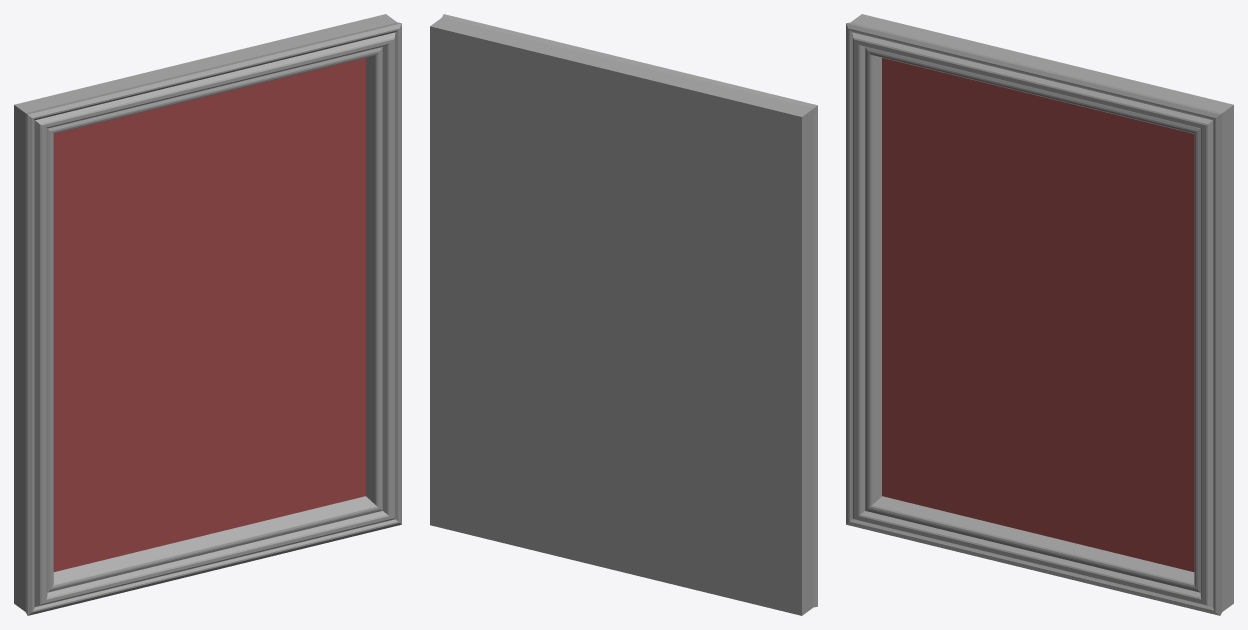
File: frame1_5-2-20.fbx
3 renders of one model, left to right at view 1: azimuth 30°, elevation 25°; view 2: azimuth 150°, elevation 25°; view 3: azimuth 330°, elevation 25°, orthographic.
Visible parts, largest first — view 1: pCube1; view 2: pCube1; view 3: pCube1.
Boxes of the visible parts, x1,y1,x2,y2 form: pCube1: [14, 14, 401, 615]; pCube1: [430, 14, 817, 615]; pCube1: [846, 14, 1233, 615].
Size of the model in its own units: 89.27 by 114 by 7.36.
